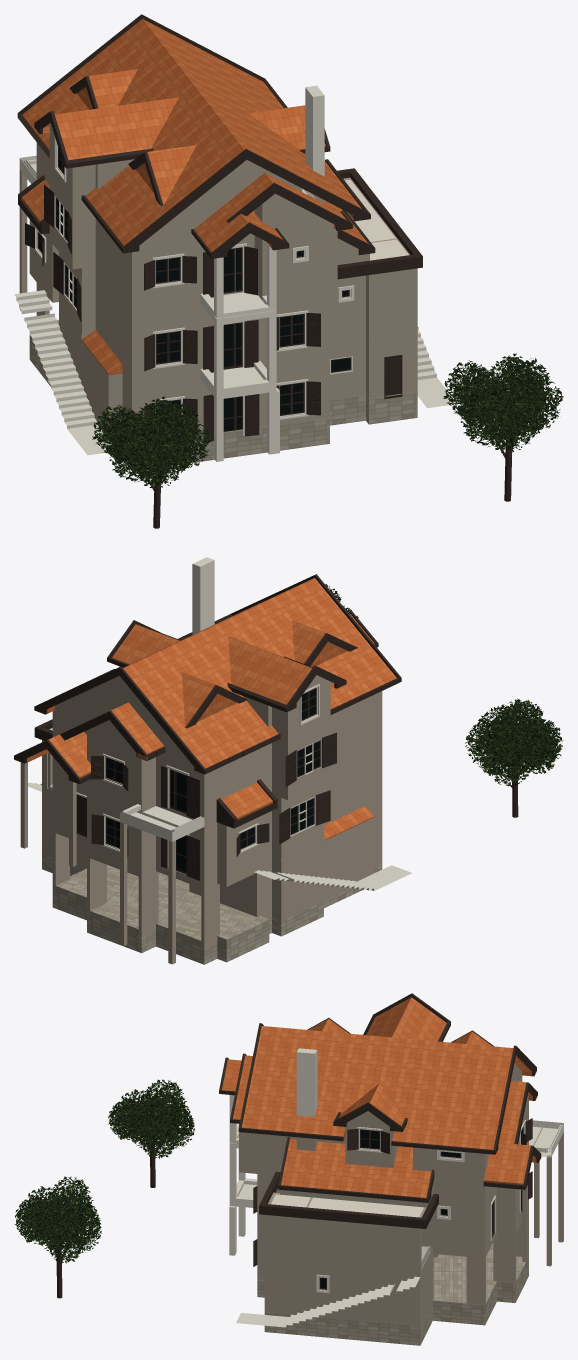
Rendered from context-detail-b16.glb.
3 views of the same model, one above another, from view 1: azimuth 30°, elevation 25°; view 2: azimuth 150°, elevation 25°; view 3: azimuth 270°, elevation 25° (orthographic). The views are drawn at different scales.
Visible parts, largest first — view 1: B16 | ÇATII.003, B16 | KAT 1$DUVAR, B16 | KAT 2$DUVAR, B16 | KAT 0$DUVAR, B16 | ek dalgalar, B16 | ÇATI ALIN.002, Individual folded leaves.012, Individual folded leaves.011, B16 | KAT 3$DUVAR, B16 foundation below BK, B16 | PENCERE_KAPI$SHUTTER.001, B16 | ÇATI ALIN (+18 smaller); view 2: B16 | ÇATII.003, B16 | KAT 0$DUVAR, B16 | KAT 1$DUVAR, B16 | KAT 2$DUVAR, B16 foundation below BK, B16 | ÇATI ALIN.002, Individual folded leaves.011, B16 | KAT 3$DUVAR, B16 | ÇATI ALIN.001, B16 | PENCERE_KAPI$SHUTTER.001, B16 | ÇATII.002, B16 | PENCERE_KAPI$SHUTTER.002 (+9 smaller); view 3: B16 | ÇATII.003, B16 | KAT 1$DUVAR, B16 | KAT 0$DUVAR, B16 foundation below BK, B16 | ÇATII.002, B16 | KAT 2$DUVAR, Individual folded leaves.012, Individual folded leaves.011, B16 | ÇATI ALIN.002, B16 | ek dalgalar, B16 | ÇATI ALIN.001, B16 | ÇATI ALIN (+6 smaller).
Boxes of the visible parts, box(x1,y1,x2,y2) form: B16 | ÇATII.003: box(22, 19, 361, 252); B16 | KAT 1$DUVAR: box(29, 177, 417, 384); B16 | KAT 2$DUVAR: box(36, 142, 369, 312); B16 | KAT 0$DUVAR: box(19, 169, 417, 435); B16 | ek dalgalar: box(14, 290, 455, 461); B16 | ÇATI ALIN.002: box(18, 14, 370, 258); Individual folded leaves.012: box(443, 353, 563, 452); Individual folded leaves.011: box(92, 396, 212, 487); B16 | KAT 3$DUVAR: box(49, 124, 333, 242); B16 foundation below BK: box(29, 320, 417, 470); B16 | PENCERE_KAPI$SHUTTER.001: box(25, 223, 320, 372); B16 | ÇATI ALIN: box(18, 168, 422, 279); B16 | ÇATII.003: box(70, 578, 396, 768); B16 | KAT 0$DUVAR: box(42, 794, 382, 964); B16 | KAT 1$DUVAR: box(20, 728, 382, 889); B16 | KAT 2$DUVAR: box(52, 691, 382, 825); B16 foundation below BK: box(42, 854, 382, 964); B16 | ÇATI ALIN.002: box(34, 574, 401, 773); Individual folded leaves.011: box(465, 698, 563, 787); B16 | KAT 3$DUVAR: box(55, 675, 330, 760); B16 | ÇATI ALIN.001: box(14, 614, 401, 822); B16 | PENCERE_KAPI$SHUTTER.001: box(91, 790, 330, 880); B16 | ÇATII.002: box(27, 705, 272, 817); B16 | PENCERE_KAPI$SHUTTER.002: box(91, 666, 336, 818); B16 | ÇATII.003: box(222, 997, 532, 1149); B16 | KAT 1$DUVAR: box(257, 1161, 539, 1278); B16 | KAT 0$DUVAR: box(257, 1132, 563, 1331); B16 foundation below BK: box(257, 1242, 528, 1345); B16 | ÇATII.002: box(281, 1071, 536, 1197); B16 | KAT 2$DUVAR: box(239, 1075, 528, 1207); Individual folded leaves.012: box(14, 1176, 101, 1263); Individual folded leaves.011: box(108, 1079, 194, 1158); B16 | ÇATI ALIN.002: box(219, 993, 537, 1153); B16 | ek dalgalar: box(229, 1178, 419, 1327); B16 | ÇATI ALIN.001: box(219, 1068, 541, 1202); B16 | ÇATI ALIN: box(259, 1171, 438, 1228).
Bounding box in the file's own units: 21.26 × 14.71 × 29.04.
12 materials, 12 textured.
